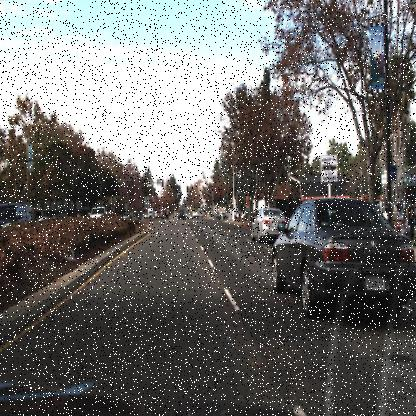car: (270, 194, 415, 321), (250, 207, 287, 244), (0, 202, 34, 238), (89, 205, 111, 225), (158, 205, 169, 220), (178, 210, 186, 221), (192, 209, 200, 219)
